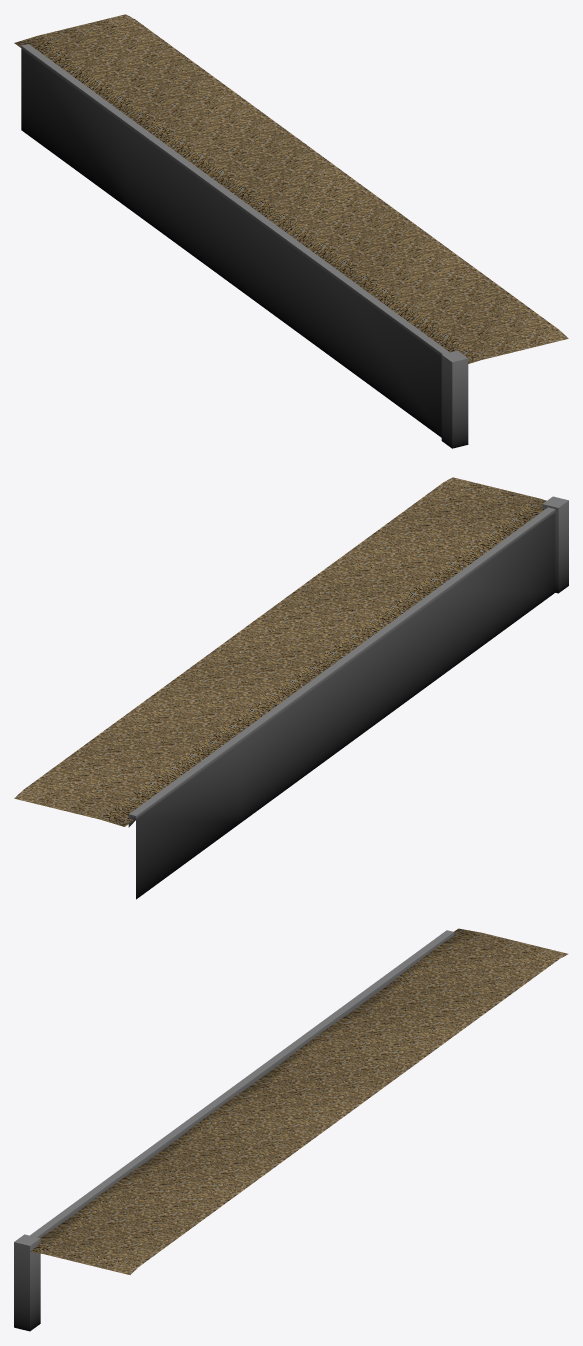
File: KONKURI_R06.glb
3 views of the same model, one above another, from view 1: azimuth 30°, elevation 25°; view 2: azimuth 150°, elevation 25°; view 3: azimuth 330°, elevation 25° (orthographic).
Parts seen in each view (by area): view 1: Model; view 2: Model; view 3: Model.
Boxes of the visible parts, left/top/right/bottom form: Model: left=14, top=14, right=568, bottom=448; Model: left=14, top=477, right=568, bottom=899; Model: left=14, top=928, right=568, bottom=1331.
Size of the model in its own units: 15.93 by 11.24 by 105.
Materials: 2 (2 with a texture image).
